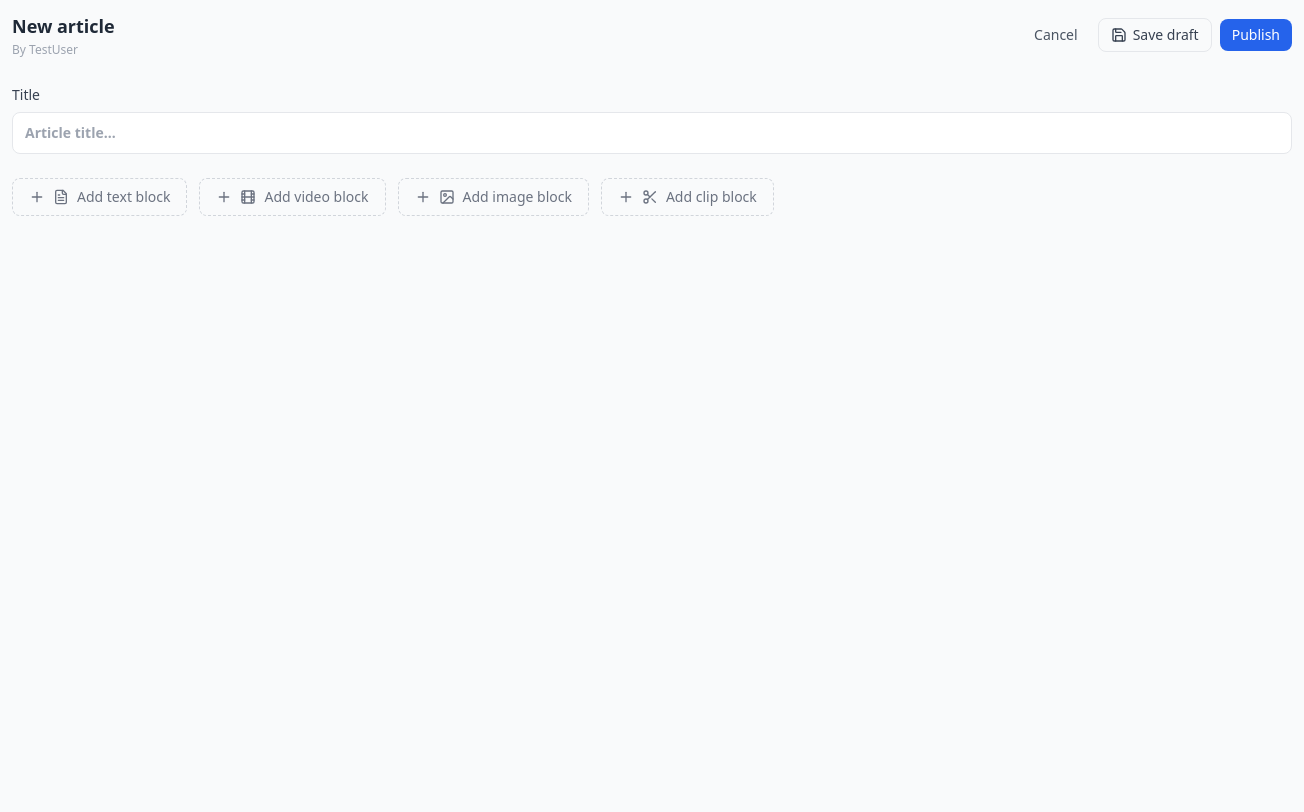
Test: ArticleEditor — block insertion buttons › clicking "+ Image" adds an image block with URL input
The width and height of the screenshot is (1304, 812).
Click the button "Add image block": coordinates (493, 197) [398, 178, 589, 216]
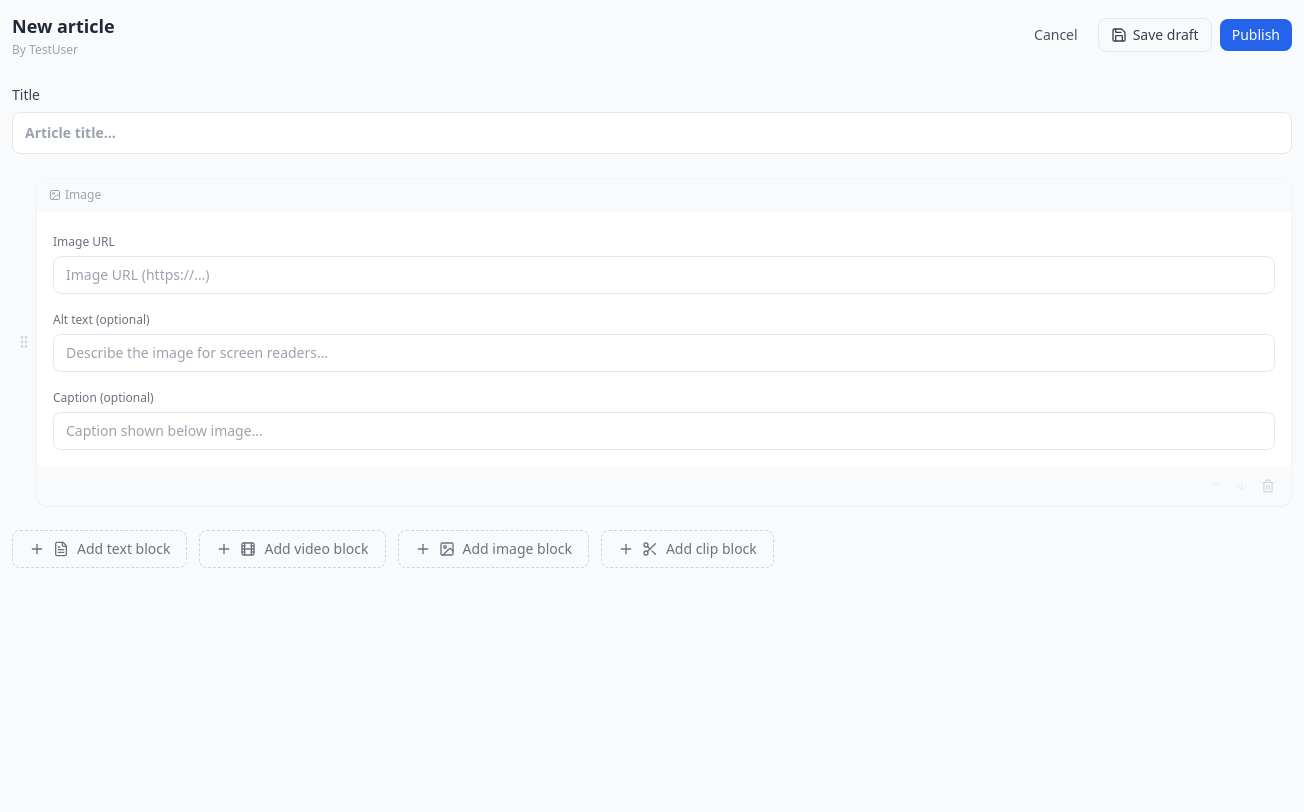
Expected: the field with placeholder "Image URL (https://…)" is shown, [53, 256, 1275, 294]
